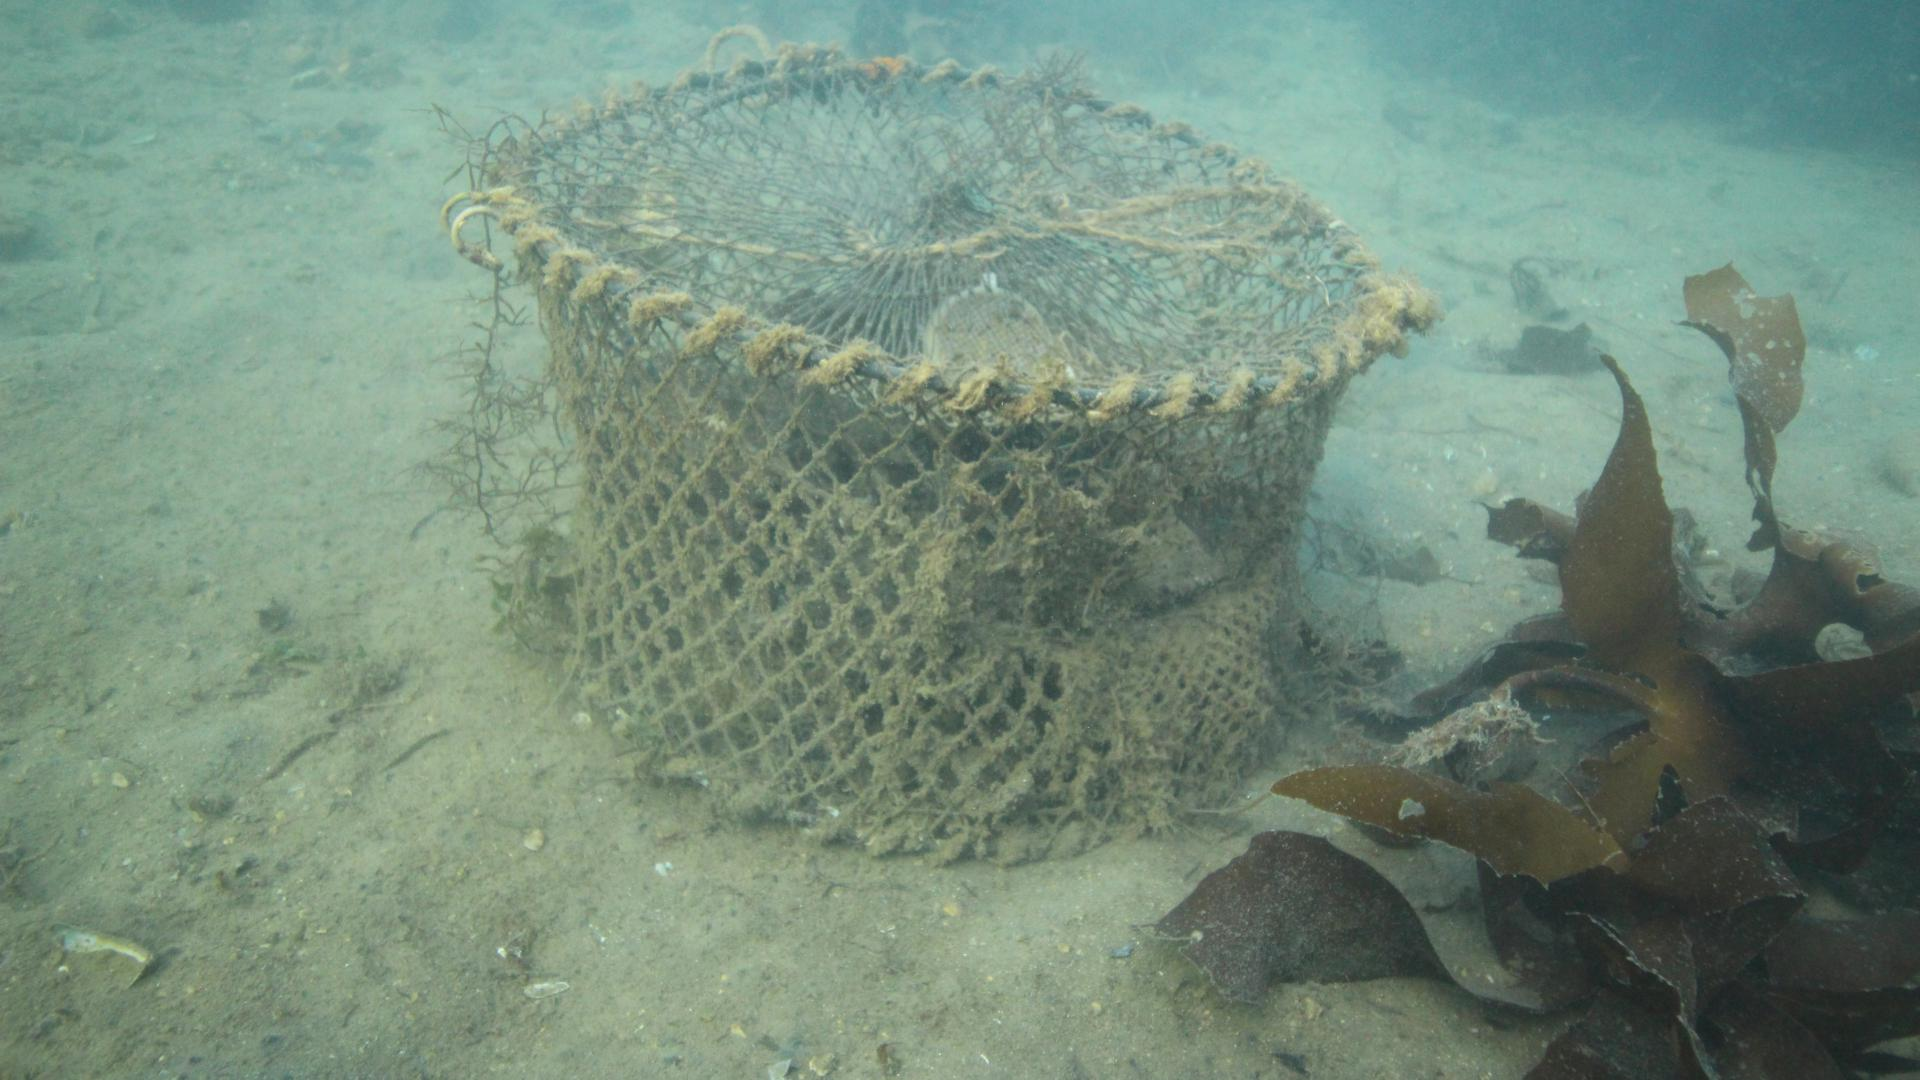circular fish trap: (481, 42, 1411, 860)
